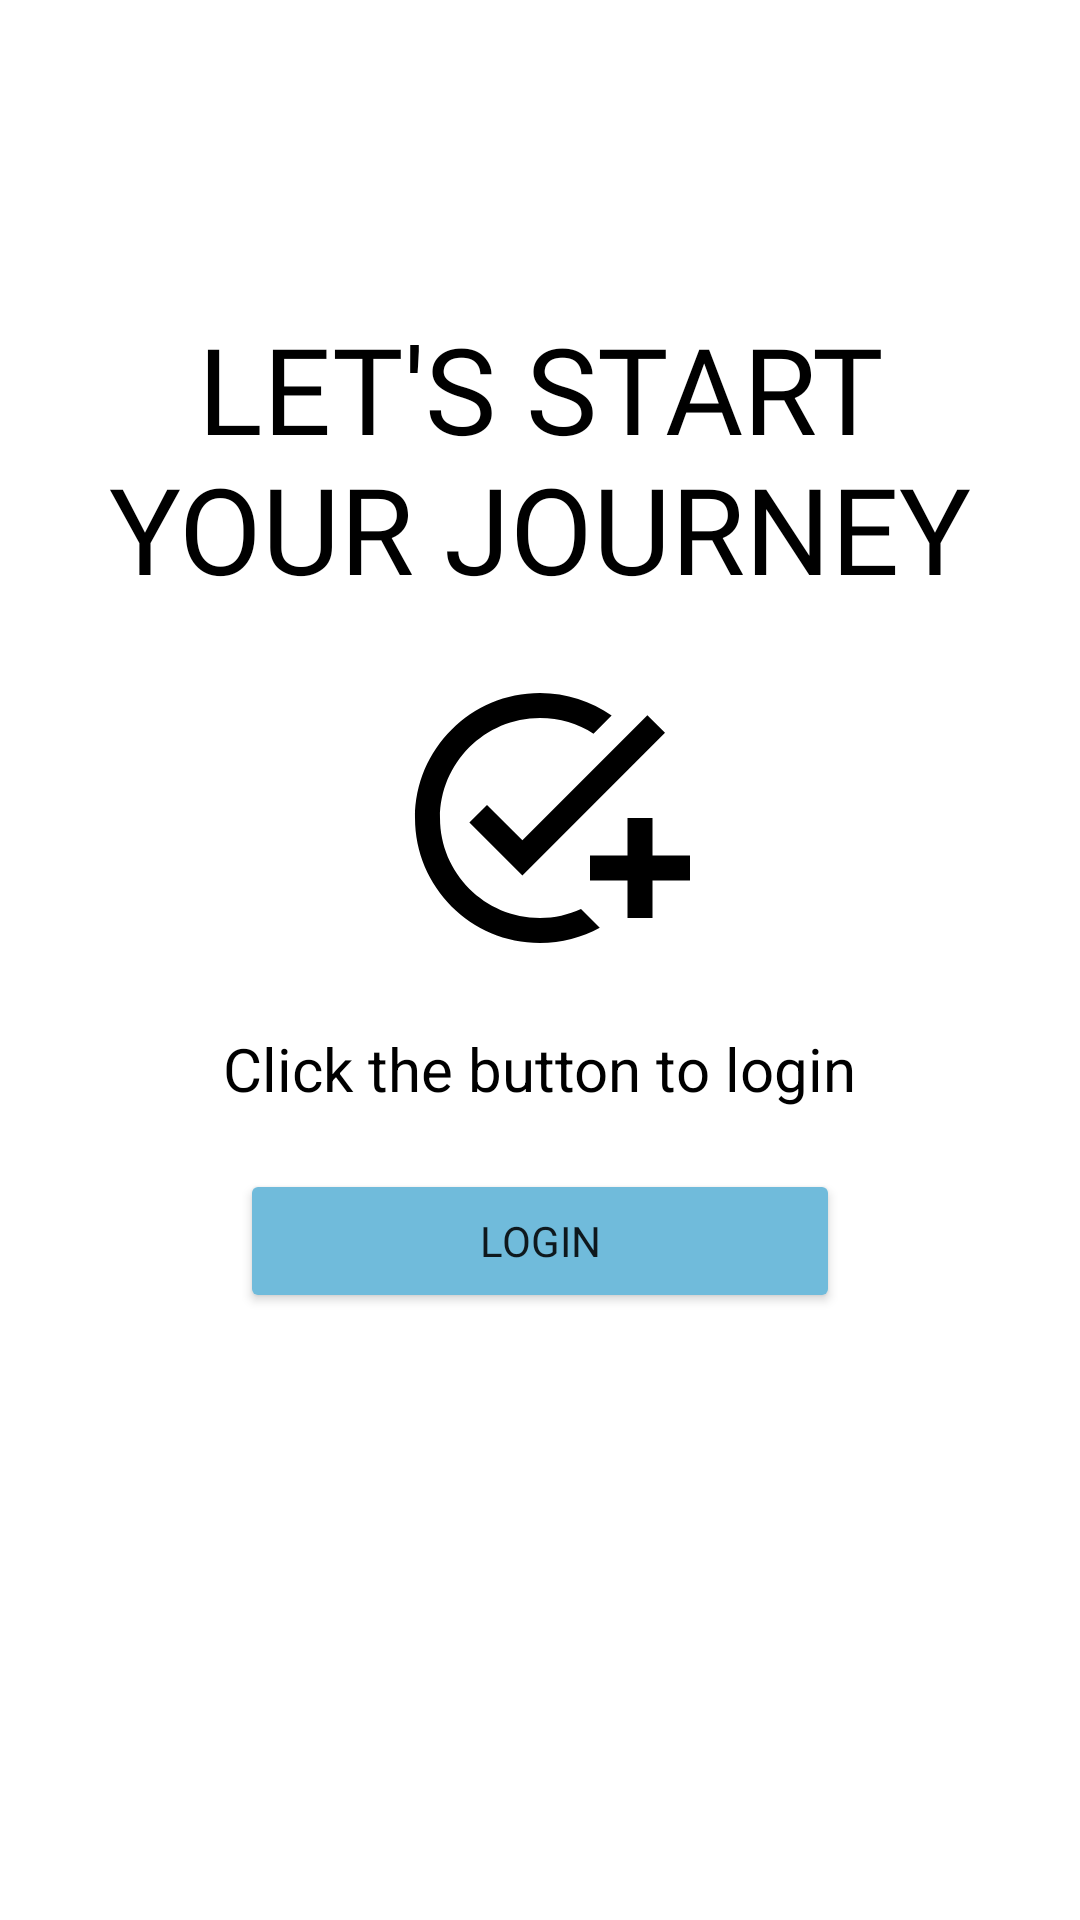

Icons on this 1080w x 1920h Android screen, each with its box as (x1,y1,x2,y2):
add task: (415,693,690,943)
